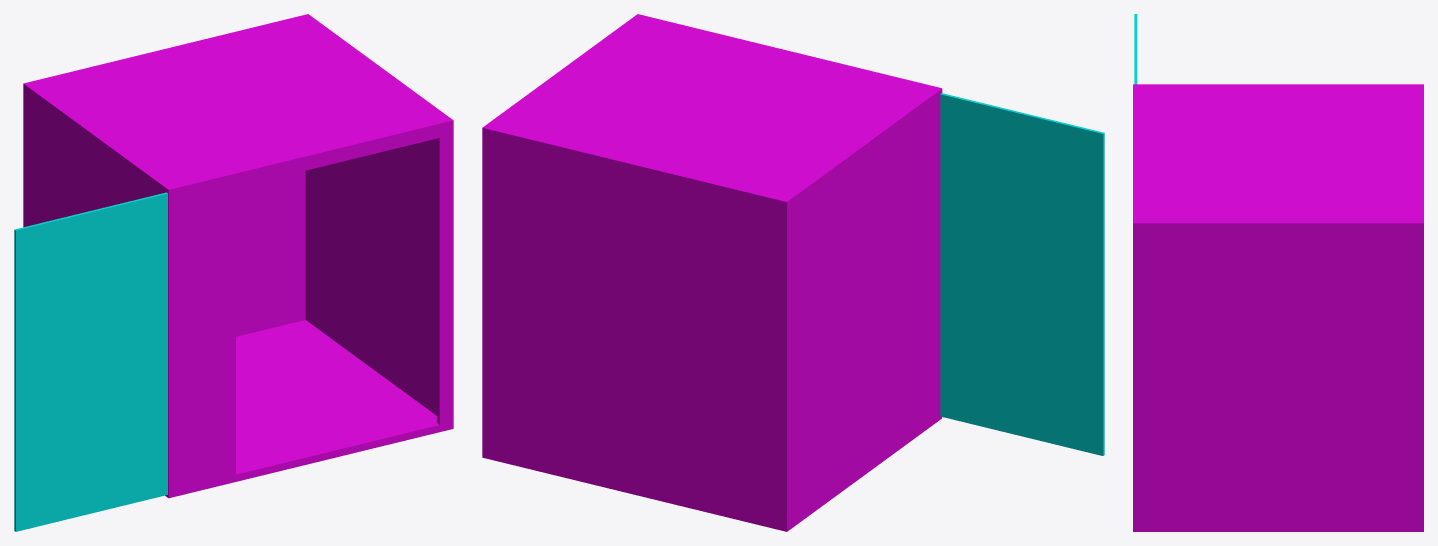
File: elevatorNick_openingAnimation.fbx
The picture shows the model from 3 angles, left to right: view 1: azimuth 30°, elevation 25°; view 2: azimuth 150°, elevation 25°; view 3: azimuth 270°, elevation 25°; orthographic projection. The views are drawn at different scales.
Visible parts, largest first — view 1: pCube5, pCube7; view 2: pCube5, pCube7; view 3: pCube5.
Part boxes in pixels (x1,y1,x2,y2): pCube5: (23, 14, 453, 498); pCube7: (14, 192, 167, 531); pCube5: (482, 14, 942, 531); pCube7: (940, 93, 1104, 455); pCube5: (1133, 84, 1423, 531).
Bounding box in the file's own units: 20.57 × 11.85 × 13.87.
